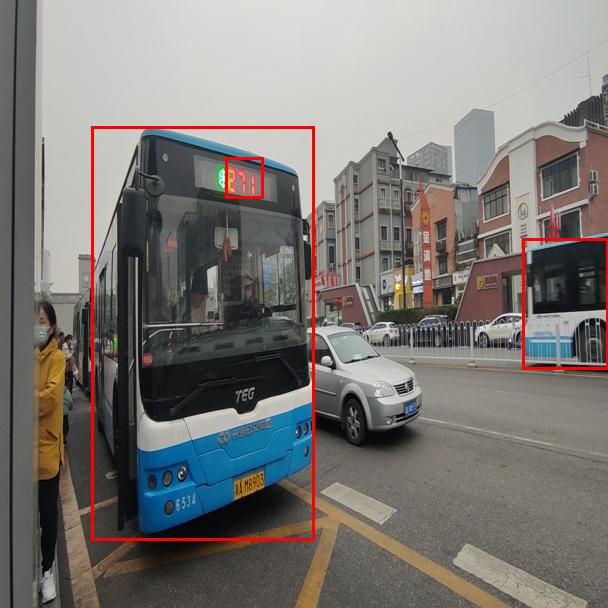bus: (91, 126, 314, 540), (522, 238, 608, 369)
screen: (225, 157, 263, 198)
